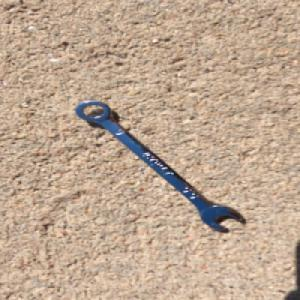Wrench: (72, 97, 245, 231)
